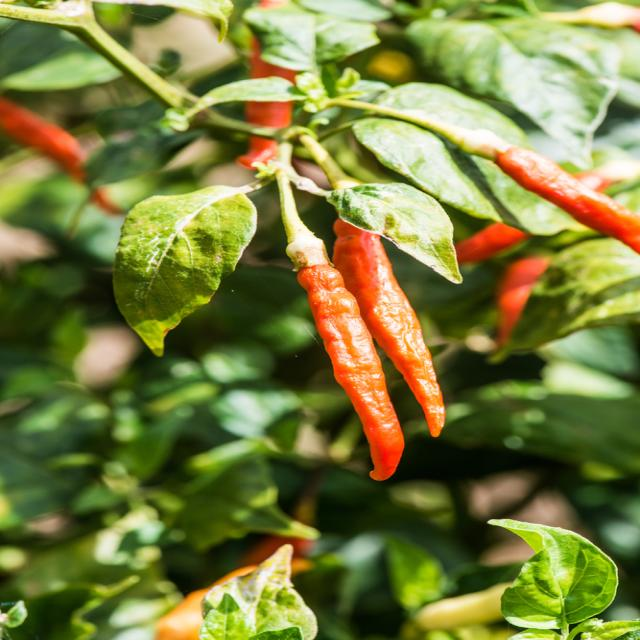Ripe: (334, 218, 444, 436), (298, 265, 405, 480), (497, 146, 639, 253), (455, 222, 530, 263)
